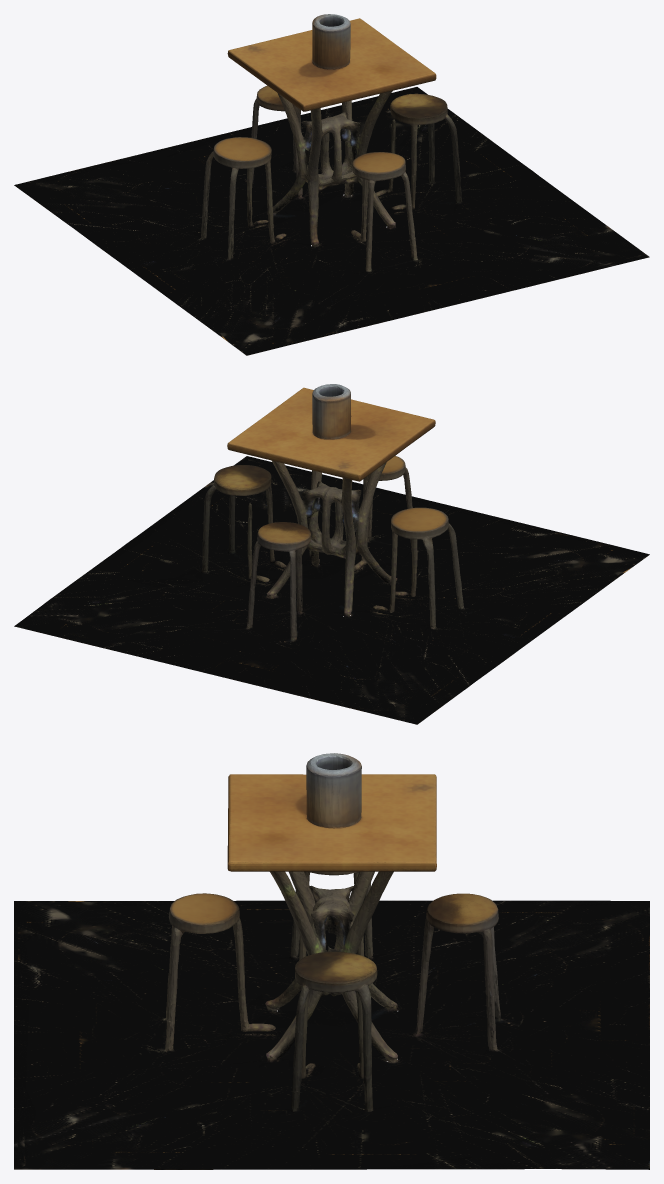
3 renders of one model, top to bottom at view 1: azimuth 30°, elevation 25°; view 2: azimuth 150°, elevation 25°; view 3: azimuth 270°, elevation 25°, orthographic. The views are drawn at different scales.
Parts seen in each view (by area): view 1: world.005; view 2: world.005; view 3: world.005.
Boxes of the visible parts, x1,y1,x2,y2 form: world.005: (14, 14, 649, 355); world.005: (14, 384, 649, 724); world.005: (14, 753, 649, 1169).
Size of the model in its own units: 100 by 48.37 by 100.
1 material, 1 textured.
